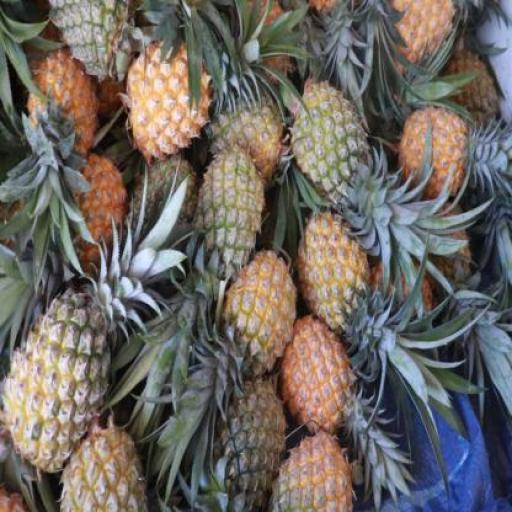------------------------------: (6, 266, 121, 484), (300, 84, 390, 219), (190, 148, 275, 284), (215, 91, 295, 180)
Pineapple - v8 v1: (294, 203, 403, 343), (285, 318, 378, 438), (129, 46, 224, 152), (233, 241, 305, 372), (411, 108, 511, 194), (36, 50, 101, 181)
